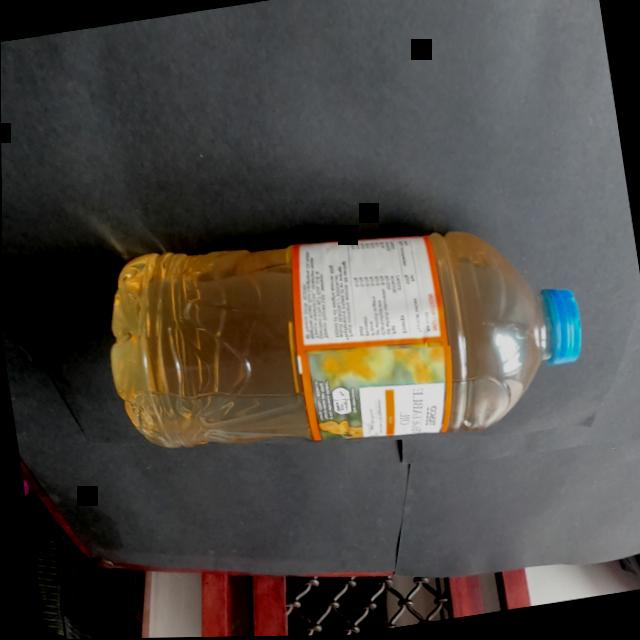Vegetableoil: (83, 171, 614, 489)
